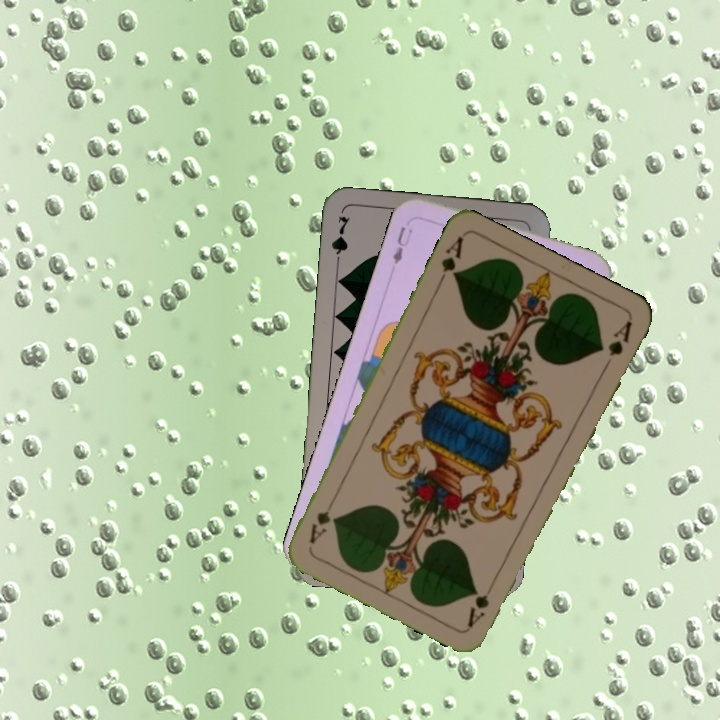EU: (388, 222, 415, 267)
G7: (327, 212, 353, 271)
GA: (463, 575, 499, 630), (433, 232, 466, 289)
